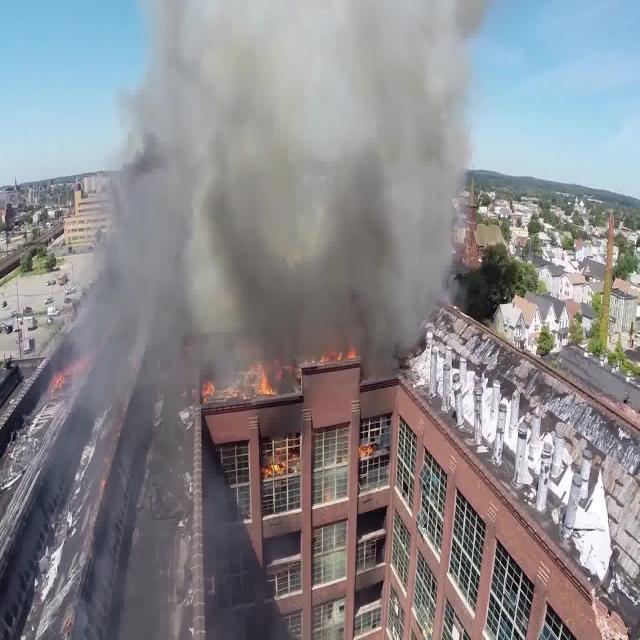Fire: (249, 358, 283, 403), (264, 450, 296, 484), (200, 374, 223, 409), (320, 348, 362, 366), (50, 362, 70, 392), (354, 441, 378, 461)
Smoke: (130, 17, 439, 266)
